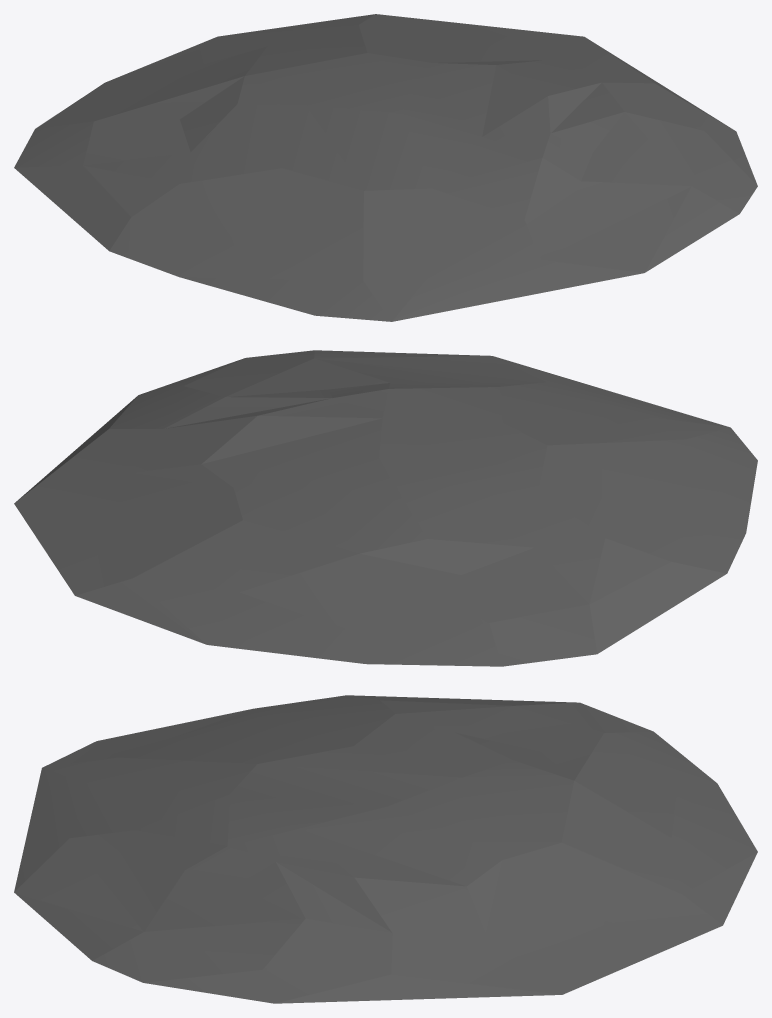
The model's file is SM_Env_Dirt_Mound_Small_01.fbx.
3 renders of one model, top to bottom at view 1: azimuth 30°, elevation 25°; view 2: azimuth 150°, elevation 25°; view 3: azimuth 270°, elevation 25°, orthographic. The views are drawn at different scales.
Parts seen in each view (by area): view 1: SM_Env_Dirt_Mound_Small_01; view 2: SM_Env_Dirt_Mound_Small_01; view 3: SM_Env_Dirt_Mound_Small_01.
Part boxes in pixels (<box>): SM_Env_Dirt_Mound_Small_01: <box>14,14,757,321</box>; SM_Env_Dirt_Mound_Small_01: <box>14,350,757,666</box>; SM_Env_Dirt_Mound_Small_01: <box>14,695,757,1003</box>.
Bounding box in the file's own units: 2.17 × 0.1668 × 2.21.
